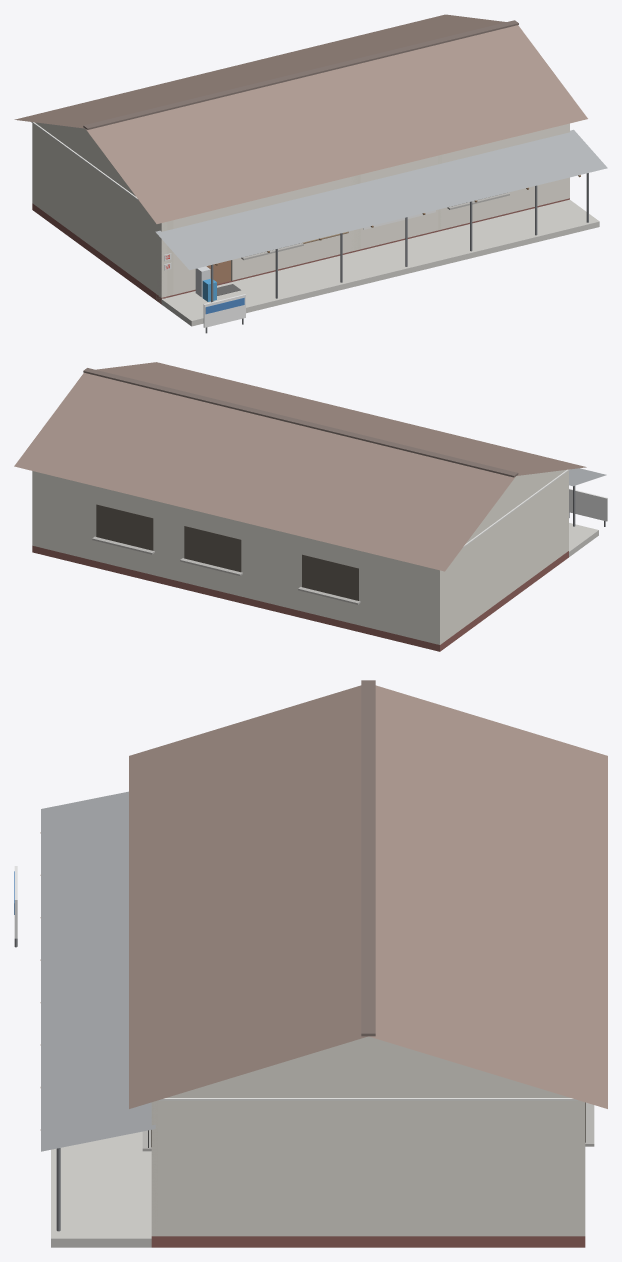
File: seaguard_building.glb
The picture shows the model from 3 angles, top to bottom: view 1: azimuth 30°, elevation 25°; view 2: azimuth 150°, elevation 25°; view 3: azimuth 270°, elevation 25°; orthographic projection. The views are drawn at different scales.
Visible parts, largest first — view 1: CG_GableRoof_Surface, CG_CG_WallCream_Merged, CG_Awning_Surface, CG_Veranda_Slab, CG_Roof_RidgeCap, CG_CG_PlinthMaroon_Merged, CG_CG_SteelPost_Merged, CG_CG_WallPilaster_Merged, CG_FS_Sign_Plate, CG_CG_SillConcrete_Merged; view 2: CG_GableRoof_Surface, CG_CG_WallCream_Merged, CG_CG_DoorFrame_Merged, CG_CG_PlinthMaroon_Merged, CG_Roof_RidgeCap, CG_FS_Sign_Plate, CG_CG_SillConcrete_Merged, CG_Veranda_Slab, CG_Awning_Surface; view 3: CG_GableRoof_Surface, CG_CG_WallCream_Merged, CG_Awning_Surface, CG_Veranda_Slab, CG_Roof_RidgeCap, CG_CG_PlinthMaroon_Merged, CG_Ceiling_Soffit.
Part boxes in pixels (box(x1,y1,x2,y2)): CG_GableRoof_Surface: box(14, 14, 587, 223); CG_CG_WallCream_Merged: box(32, 122, 569, 297); CG_Awning_Surface: box(155, 129, 607, 270); CG_Veranda_Slab: box(161, 199, 599, 326); CG_Roof_RidgeCap: box(83, 20, 518, 129); CG_CG_PlinthMaroon_Merged: box(32, 198, 569, 304); CG_CG_SteelPost_Merged: box(205, 173, 588, 333); CG_CG_WallPilaster_Merged: box(156, 155, 441, 302); CG_FS_Sign_Plate: box(203, 294, 245, 327); CG_CG_SillConcrete_Merged: box(241, 192, 509, 260); CG_GableRoof_Surface: box(14, 362, 586, 571); CG_CG_WallCream_Merged: box(32, 470, 568, 644); CG_CG_DoorFrame_Merged: box(96, 504, 358, 600); CG_CG_PlinthMaroon_Merged: box(32, 545, 568, 651); CG_Roof_RidgeCap: box(83, 368, 518, 477); CG_FS_Sign_Plate: box(569, 488, 607, 521); CG_CG_SillConcrete_Merged: box(92, 536, 360, 604); CG_Veranda_Slab: box(569, 523, 598, 556); CG_Awning_Surface: box(568, 468, 606, 486); CG_GableRoof_Surface: box(129, 685, 607, 1108); CG_CG_WallCream_Merged: box(151, 1036, 585, 1236); CG_Awning_Surface: box(41, 791, 155, 1151); CG_Veranda_Slab: box(51, 1131, 151, 1247); CG_Roof_RidgeCap: box(361, 680, 375, 1036); CG_CG_PlinthMaroon_Merged: box(151, 1236, 585, 1247); CG_Ceiling_Soffit: box(158, 1098, 578, 1100).
Size of the model in its own units: 16.65 by 4.91 by 11.83.
